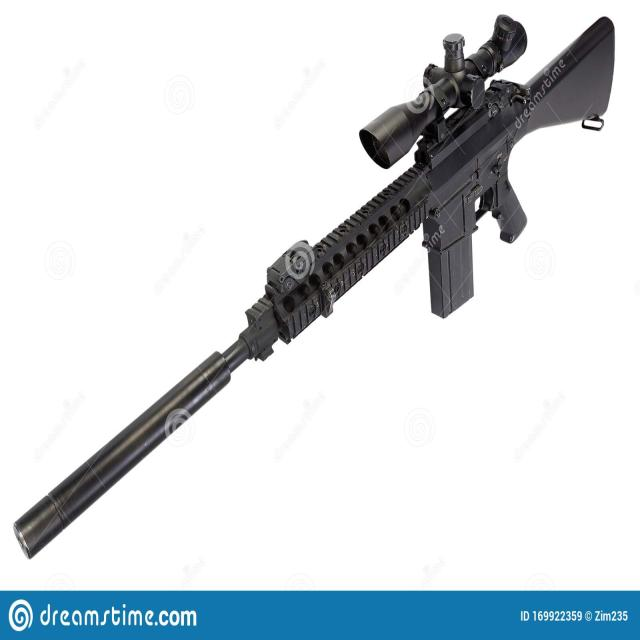Rifle: (14, 16, 618, 561)
